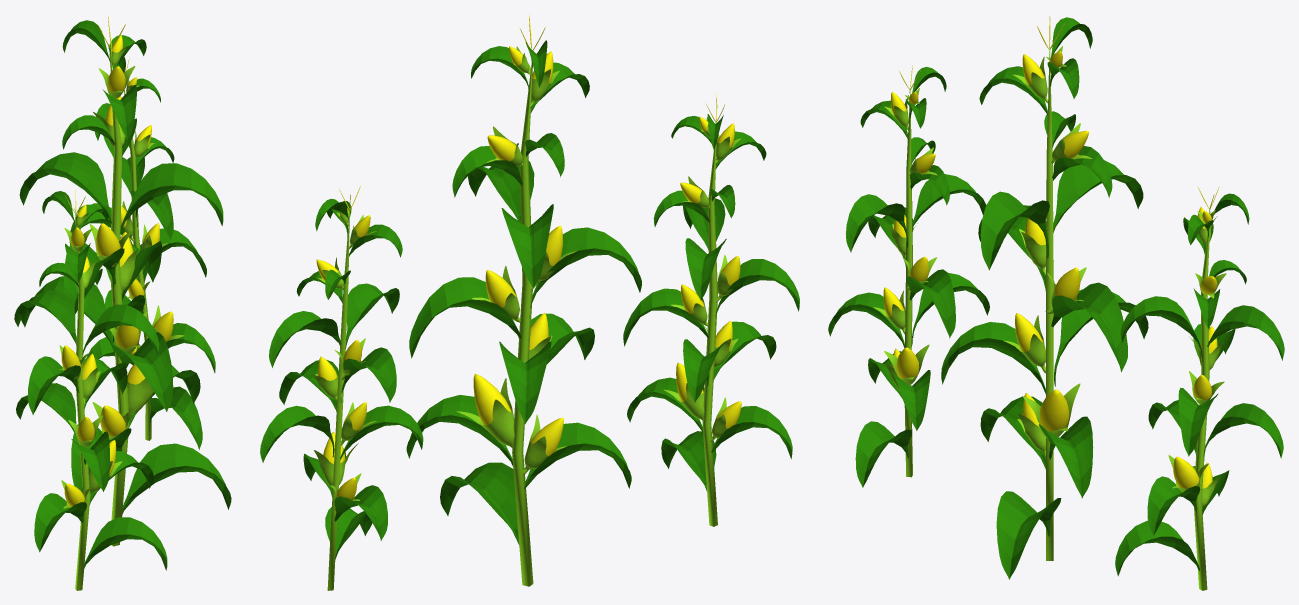
Rendered from CornPlant.fbx.
3 views of the same model, side by side, from view 1: azimuth 30°, elevation 25°; view 2: azimuth 150°, elevation 25°; view 3: azimuth 270°, elevation 25° (orthographic). The views are drawn at different scales.
Visible parts, largest first — view 1: Cylinder.008, Cylinder.002, Cylinder.001; view 2: Cylinder.008, Cylinder.002, Cylinder.001; view 3: Cylinder.008, Cylinder.002, Cylinder.001.
Boxes of the visible parts, x1,y1,x2,y2 form: Cylinder.008: (19, 15, 231, 546); Cylinder.002: (14, 189, 167, 590); Cylinder.001: (69, 57, 215, 449); Cylinder.008: (406, 15, 641, 586); Cylinder.002: (623, 94, 799, 526); Cylinder.001: (260, 185, 423, 590); Cylinder.008: (941, 16, 1148, 579); Cylinder.002: (828, 65, 989, 487); Cylinder.001: (1115, 186, 1284, 590).
Size of the model in its own units: 80.6 by 123 by 94.4.
